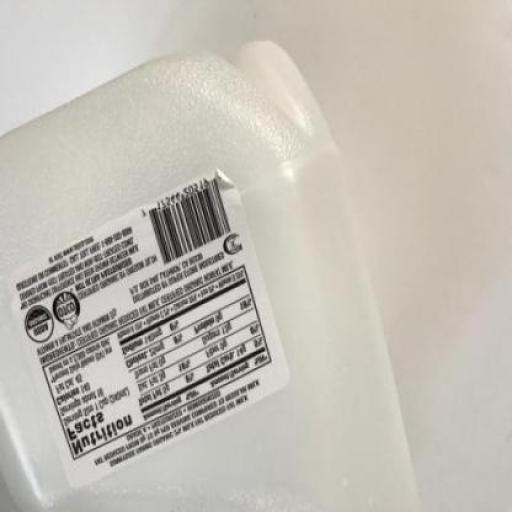plastic: (0, 38, 426, 511)
